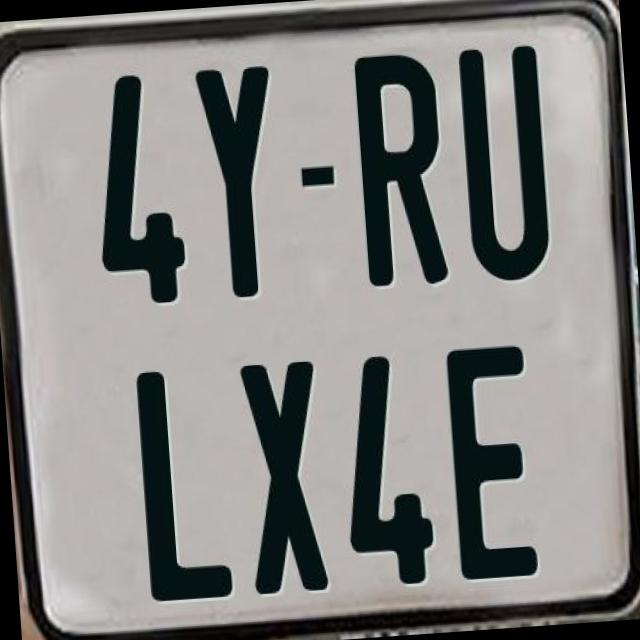4: (88, 68, 190, 306), (334, 353, 436, 588)
E: (441, 342, 541, 582)
L: (136, 367, 238, 602)
R: (351, 48, 453, 284)
U: (454, 42, 556, 284)
X: (238, 361, 332, 604)
Y: (193, 66, 284, 306)
